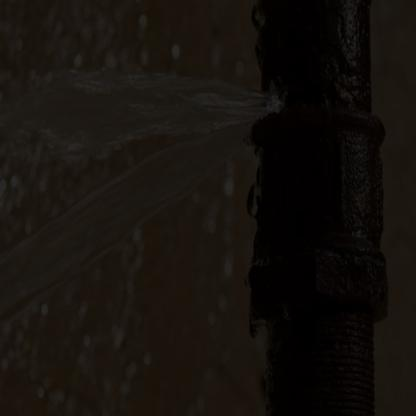burst: (221, 69, 298, 143)
